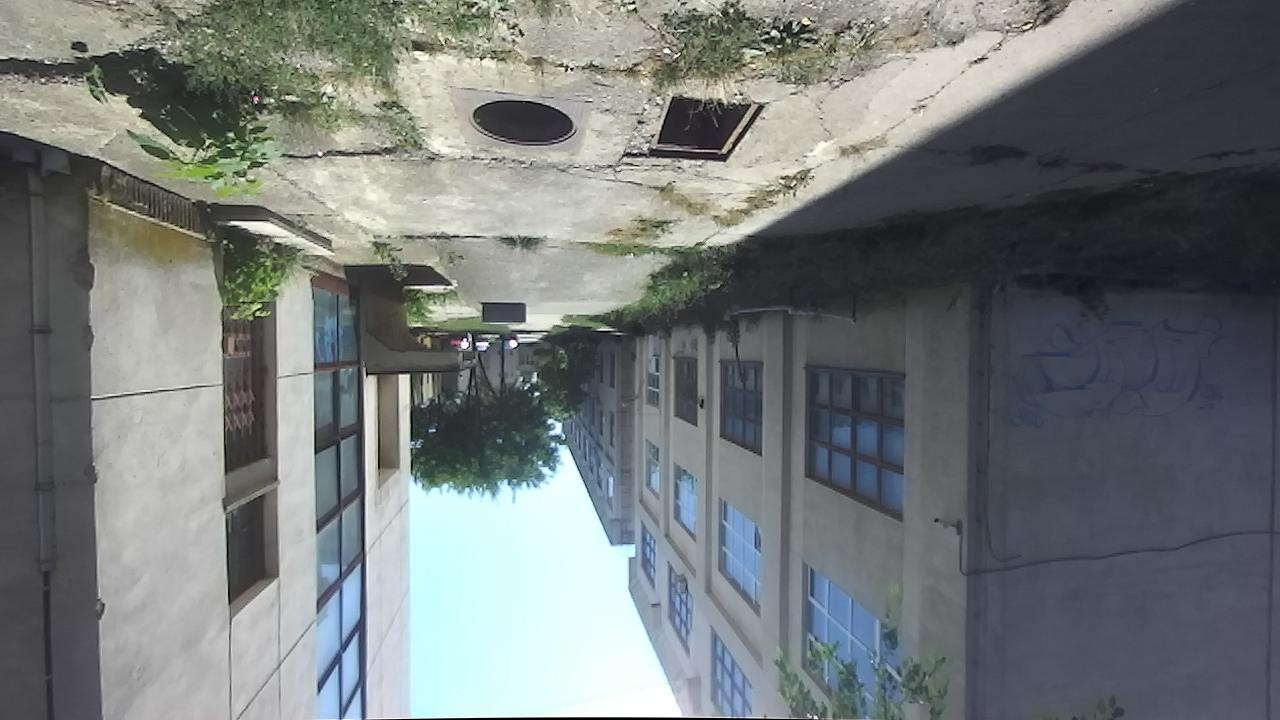drain: (645, 90, 770, 166), (463, 97, 582, 150)
